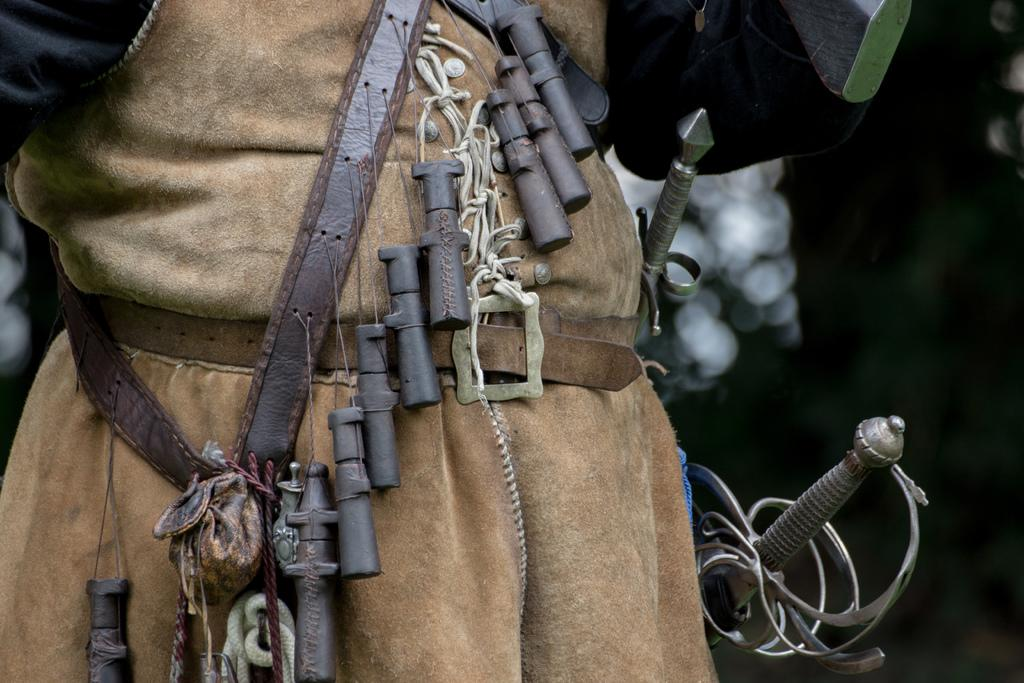Sword: (685, 415, 929, 677)
